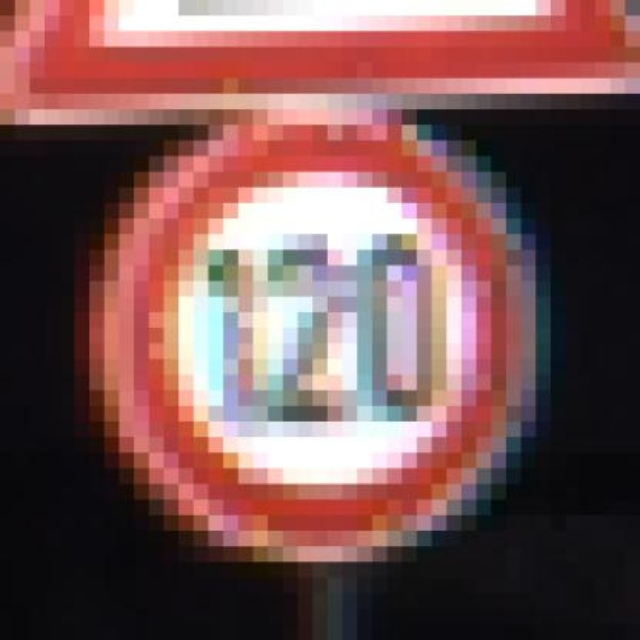Tốc độ tối đa cho phép 120km/h: (118, 118, 528, 556)
